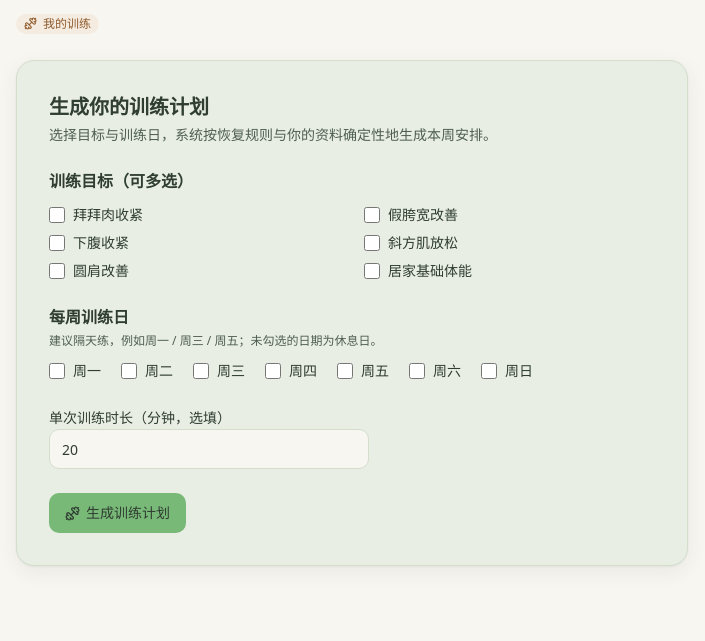
Test: TrainingPage › blocks generation until at least one project and one training day are selected
Click the button "生成训练计划" at point(118, 513), box [49,493,186,533]
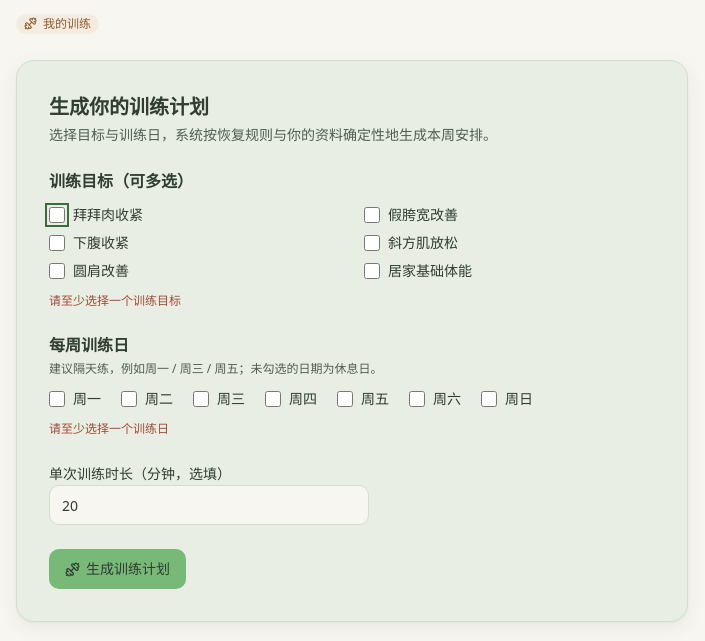
Check: the text "请至少选择一个训练目标" is shown, box [49,292,181,309]
Check: the text "请至少选择一个训练日" is shown, box [49,420,169,437]
